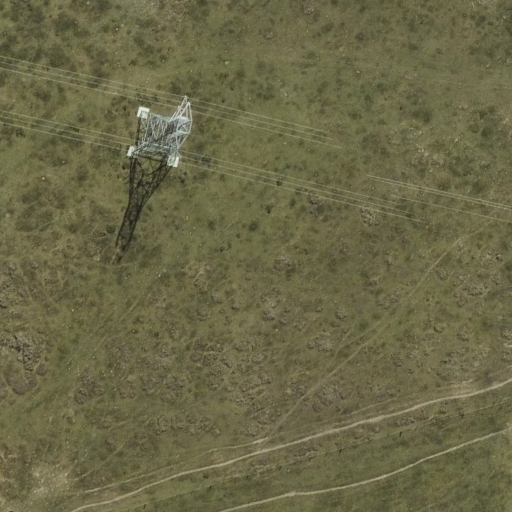TT: (125, 89, 201, 176)
